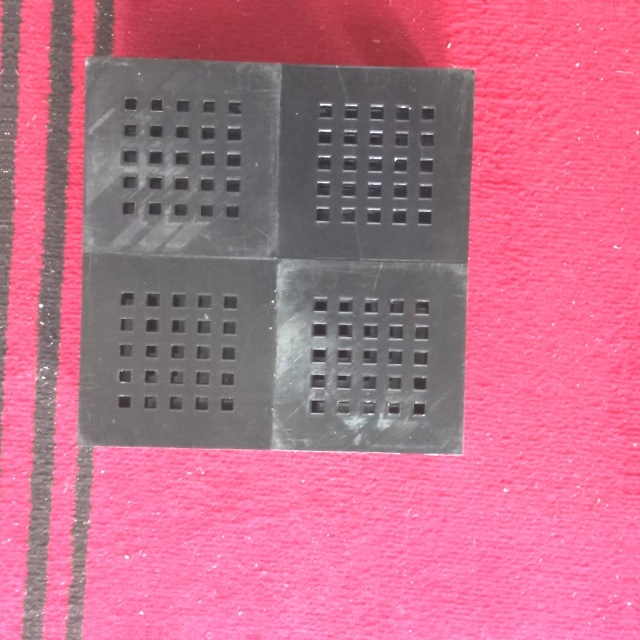pallet: (72, 46, 480, 463)
